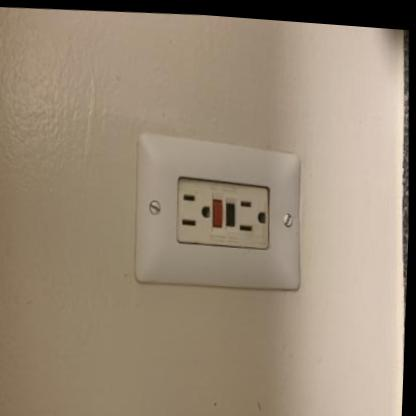OUTLET: (128, 140, 302, 297)
